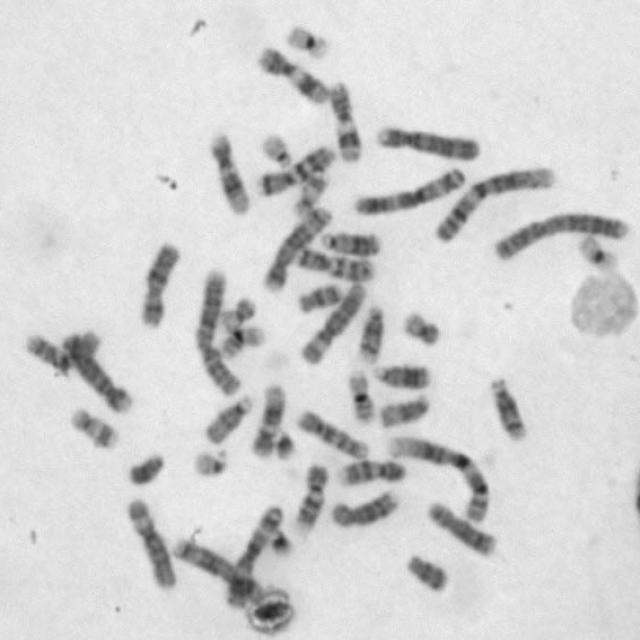A1: (382, 430, 492, 526), (429, 162, 556, 244)
A2: (489, 206, 631, 262), (192, 264, 243, 398)
A3: (222, 499, 284, 609), (350, 164, 468, 218)
B4: (58, 330, 136, 418), (372, 121, 482, 162)
B5: (258, 201, 336, 293), (168, 533, 264, 605)
C10: (292, 404, 372, 461), (20, 326, 105, 376)
C11: (253, 42, 331, 107), (325, 77, 364, 164)
C12: (205, 128, 252, 218), (247, 381, 288, 460)
C6: (297, 278, 368, 367), (122, 492, 178, 591)
C7: (253, 141, 336, 198), (291, 243, 377, 282)
C8: (424, 496, 499, 557), (326, 484, 401, 529)
C9: (290, 460, 330, 531), (333, 454, 409, 487)
D13: (316, 227, 384, 258), (368, 359, 432, 390)
D14: (486, 371, 528, 443), (352, 301, 386, 364)
D15: (200, 390, 255, 447), (375, 389, 432, 430)
E16: (343, 366, 378, 425), (216, 322, 268, 359)
E17: (66, 402, 120, 450), (289, 168, 331, 217)
E18: (402, 549, 450, 593), (294, 278, 343, 314)
F19: (281, 20, 333, 61), (573, 230, 620, 274)
F20: (398, 306, 442, 348), (218, 293, 257, 333)
G21: (265, 522, 295, 558), (270, 424, 297, 462)
G22: (188, 443, 232, 479), (258, 128, 294, 170)
X: (134, 238, 182, 330)
Y: (123, 449, 166, 486)
